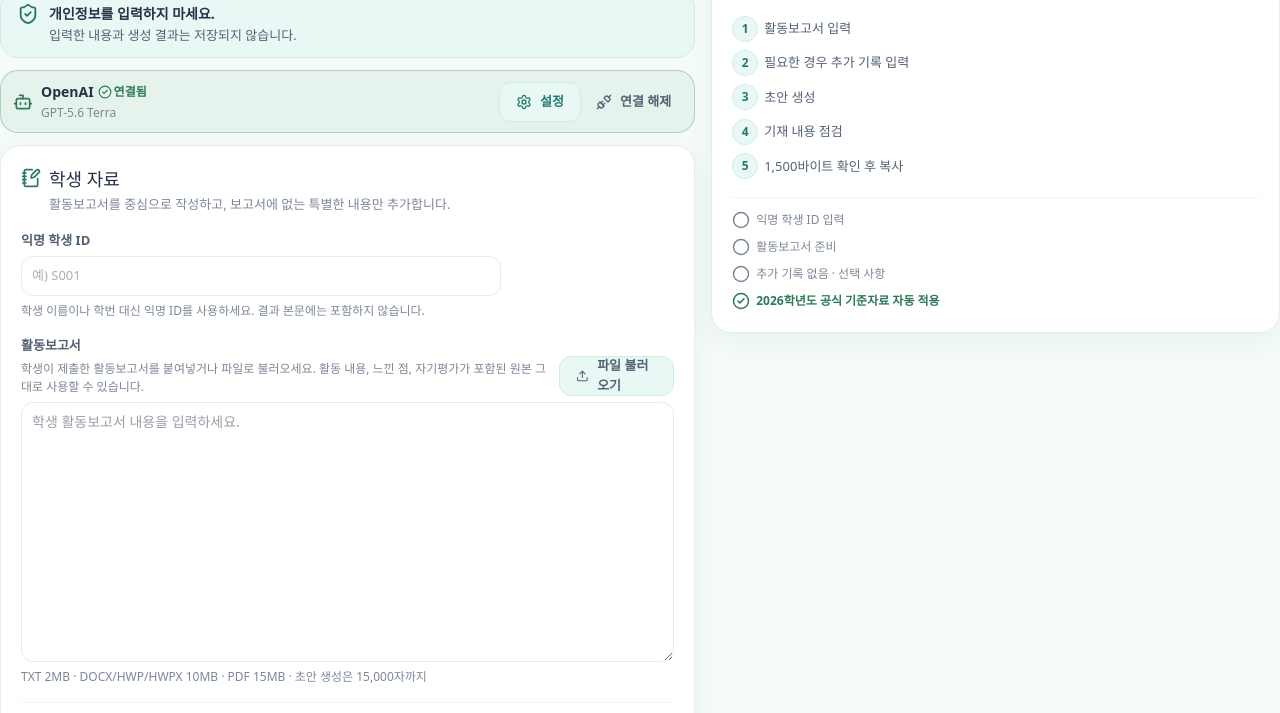
AiDocumentWriter › updates character and UTF-8 byte counts while editing the draft
Type "S001" into the field labelled "익명 학생 ID 학생 이름이나 학번 대신 익명 ID를 사용하세요. 결과 본문에는 포함하지 않습니다." at (261, 276), box [21,256,501,296]
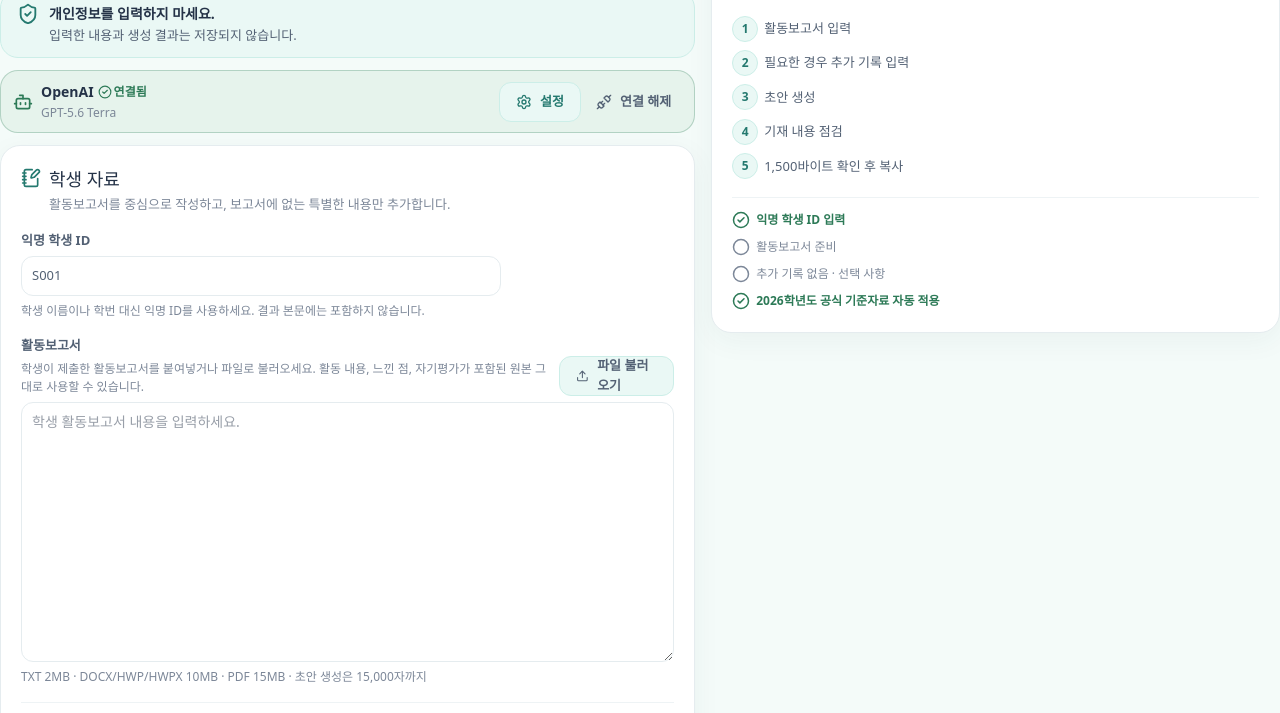
Type "건강 캠페인 자료를 조사하고 발표함" into the text box labelled "활동보고서" at (348, 532), box [21,402,674,662]
(page scrolled)
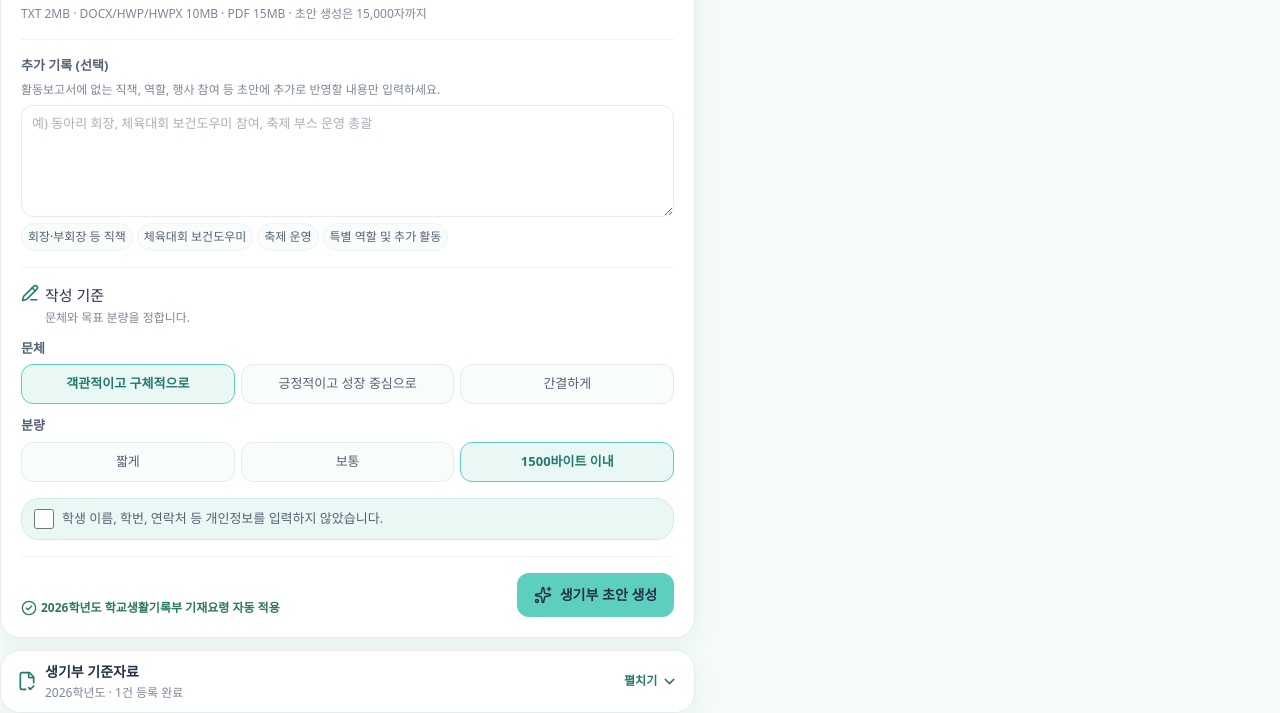
Click the checkbox labelled "학생 이름, 학번, 연락처 등 개인정보를 입력하지 않았습니다." at (44, 519), box [34,509,54,529]
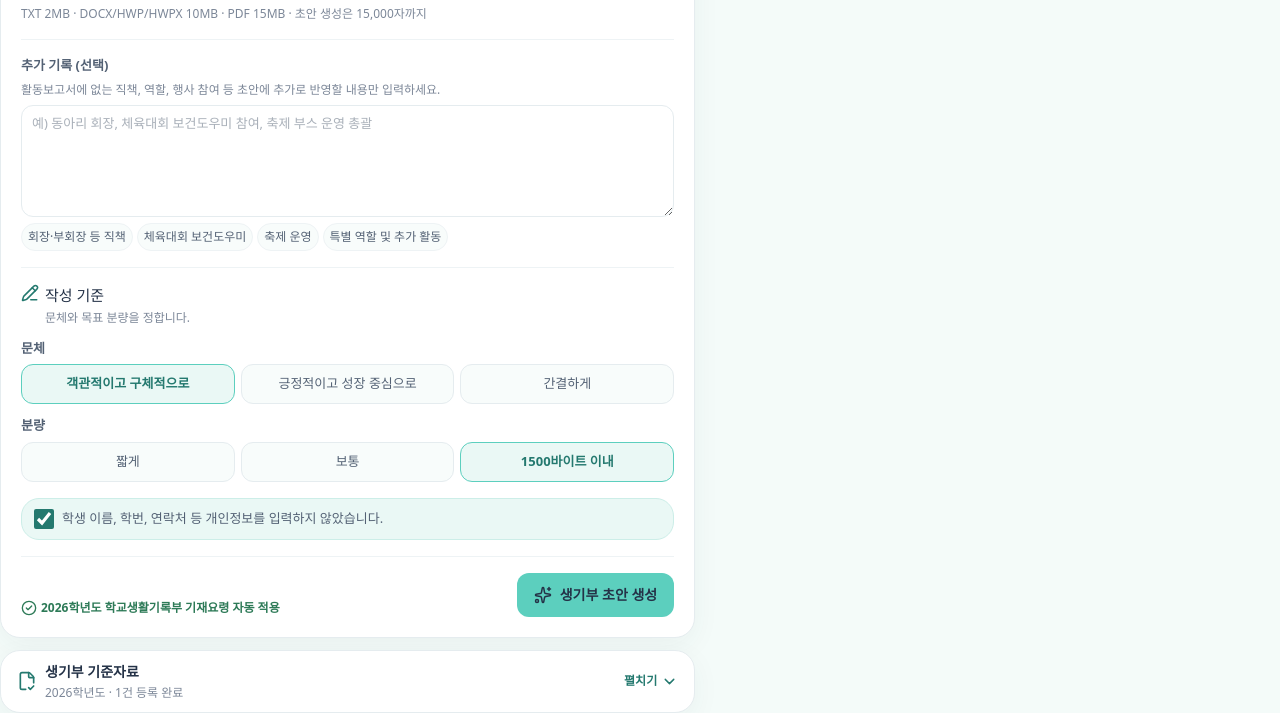
Click the button "생기부 초안 생성" at (595, 595), box [517,573,674,617]
(page scrolled)
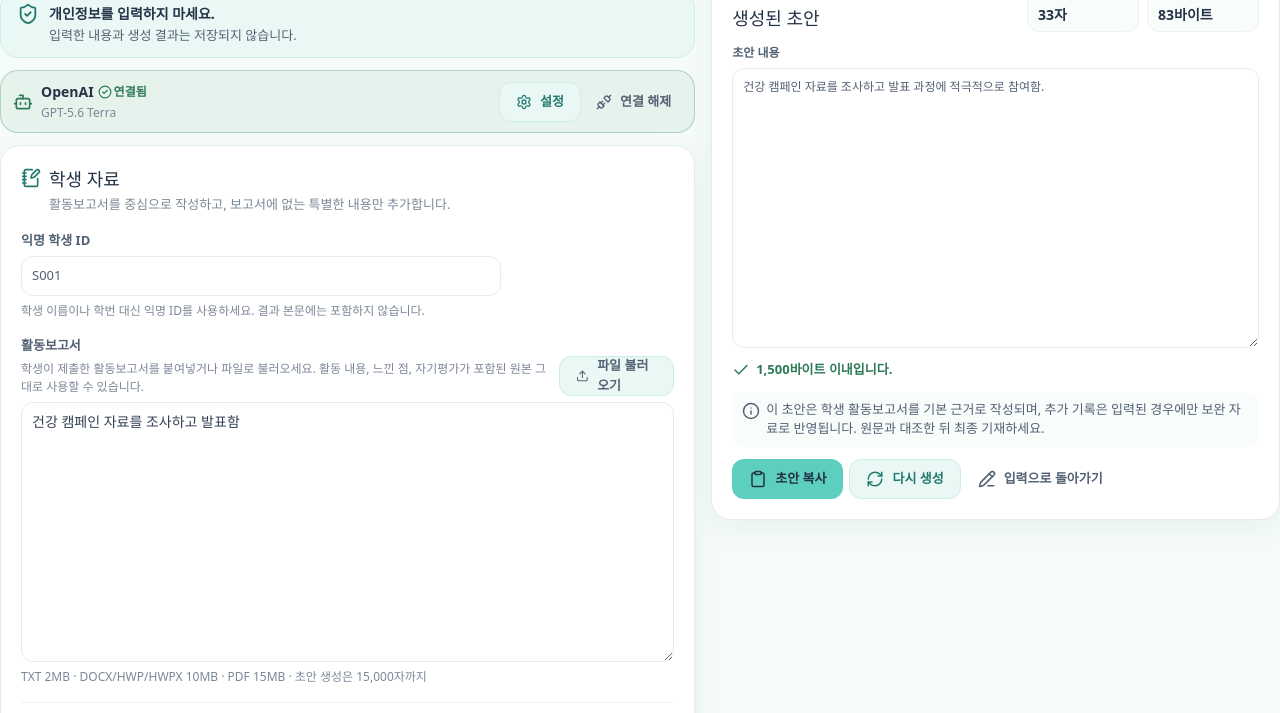
Replace the text in the text box named "생성된 초안 편집" with "보건A" at (996, 208), box [732,68,1259,348]
(page scrolled)
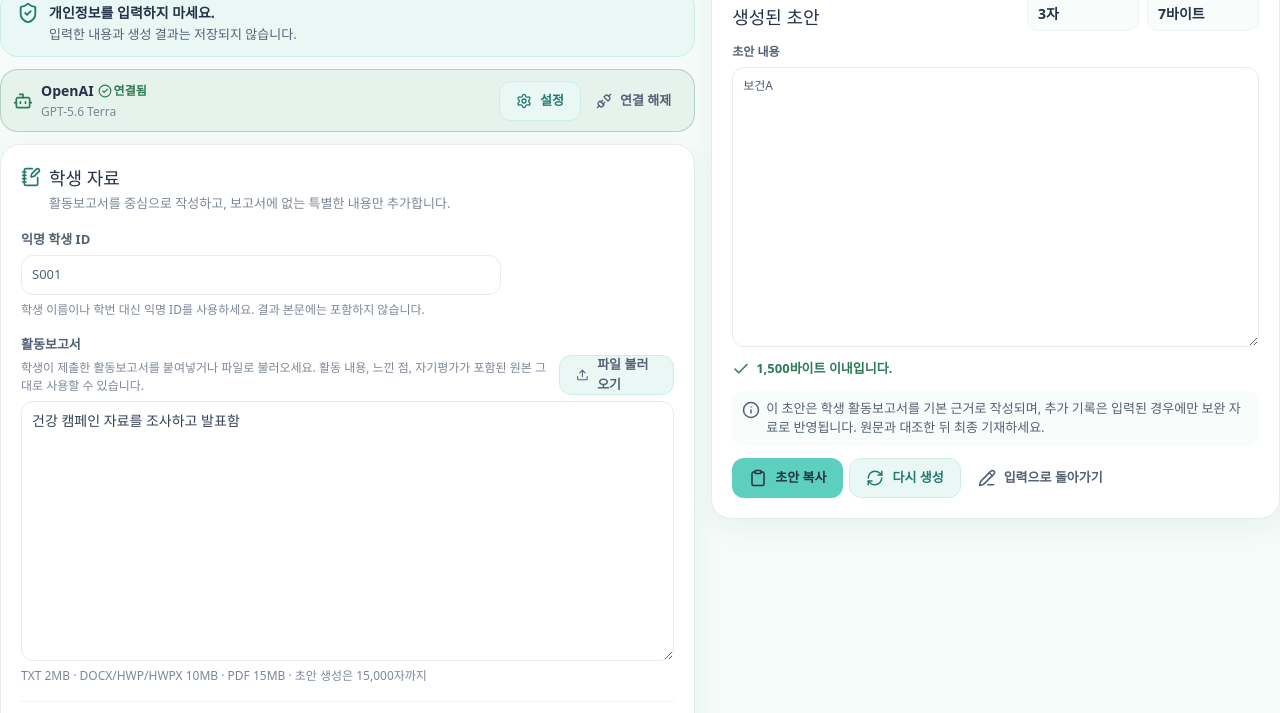
Expected: the text "3자" is shown, [1038,4,1059,23]
Expected: the text "1,500바이트 이내입니다." is shown, [732,359,892,378]
Expected: the text "7바이트" is shown, [1158,4,1205,23]
